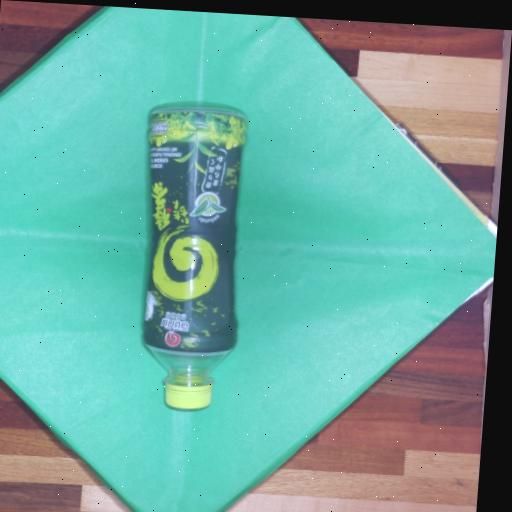bottle: (144, 109, 245, 409)
